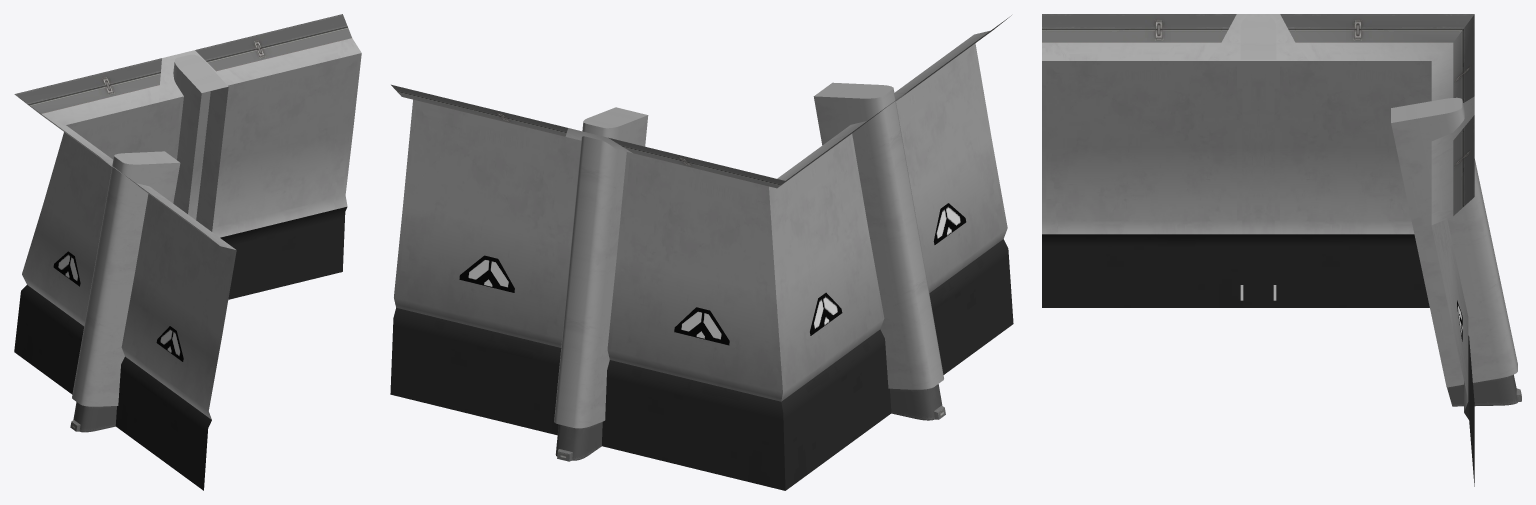
File: WallAstra_Corner_Square_Outer.glb
3 renders of one model, left to right at view 1: azimuth 30°, elevation 25°; view 2: azimuth 150°, elevation 25°; view 3: azimuth 270°, elevation 25°, orthographic. The views are drawn at different scales.
Parts seen in each view (by area): view 1: WallAstra_Corner_Square_Outer; view 2: WallAstra_Corner_Square_Outer; view 3: WallAstra_Corner_Square_Outer.
Part boxes in pixels (bbox=[...]): WallAstra_Corner_Square_Outer: bbox=[14, 14, 361, 490]; WallAstra_Corner_Square_Outer: bbox=[390, 15, 1013, 490]; WallAstra_Corner_Square_Outer: bbox=[1042, 14, 1521, 486].
Size of the model in its own units: 4.44 by 3.03 by 4.44.
5 materials, 5 textured.
